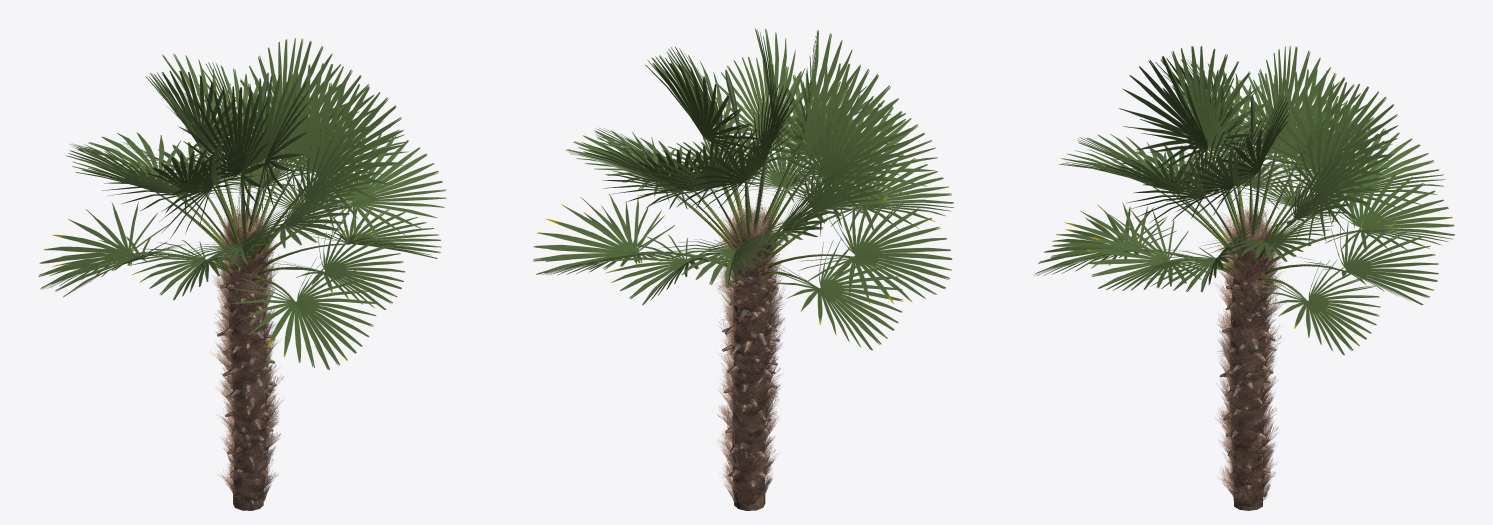
The model's file is palmier-nain-2.glb.
The picture shows the model from 3 angles, left to right: view 1: azimuth 30°, elevation 25°; view 2: azimuth 150°, elevation 25°; view 3: azimuth 270°, elevation 25°; orthographic projection. The views are drawn at different scales.
Visible parts, largest first — view 1: Chamaerops_humilis_HD; view 2: Chamaerops_humilis_HD; view 3: Chamaerops_humilis_HD.
Boxes of the visible parts, x1,y1,x2,y2 form: Chamaerops_humilis_HD: (38,38,446,510); Chamaerops_humilis_HD: (533,28,954,510); Chamaerops_humilis_HD: (1034,45,1454,510).
Size of the model in its own units: 1.44 by 1.69 by 1.52.
10 materials, 10 textured.
